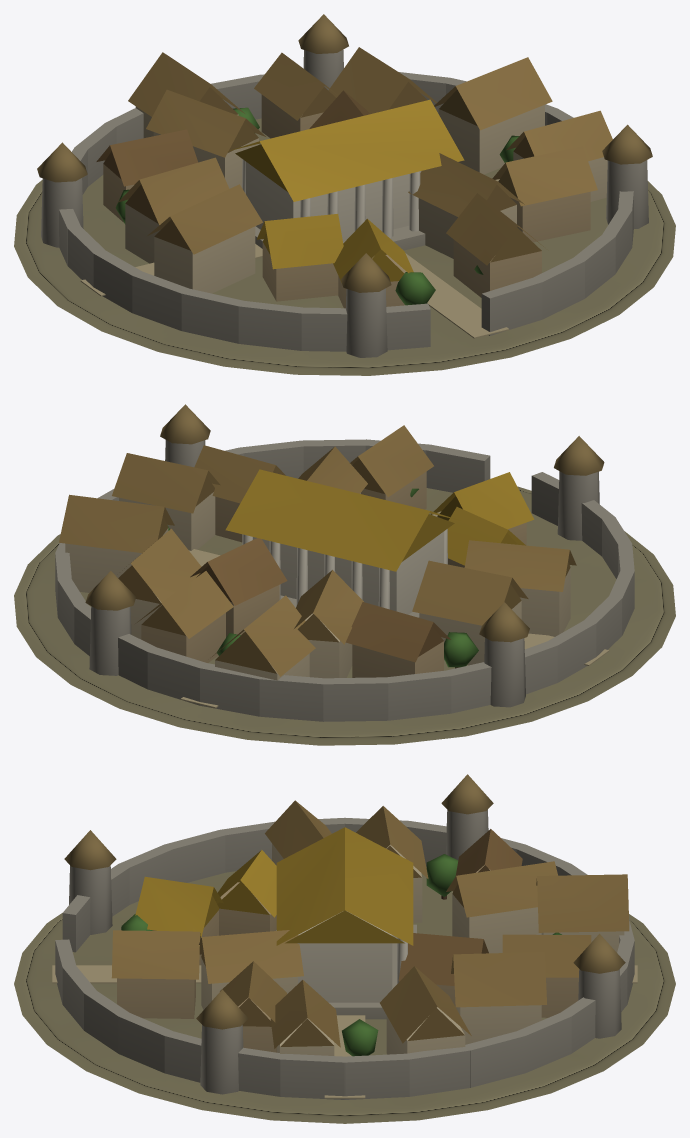
Rendered from settlement_3_2.glb.
3 renders of one model, top to bottom at view 1: azimuth 30°, elevation 25°; view 2: azimuth 150°, elevation 25°; view 3: azimuth 270°, elevation 25°, orthographic.
Visible parts, largest first — view 1: part_0; view 2: part_0; view 3: part_0.
Part boxes in pixels (x1,y1,x2,y2): part_0: [14, 14, 675, 375]; part_0: [14, 404, 675, 745]; part_0: [14, 774, 675, 1123].
Bounding box in the file's own units: 32.8 × 6.31 × 32.8.
